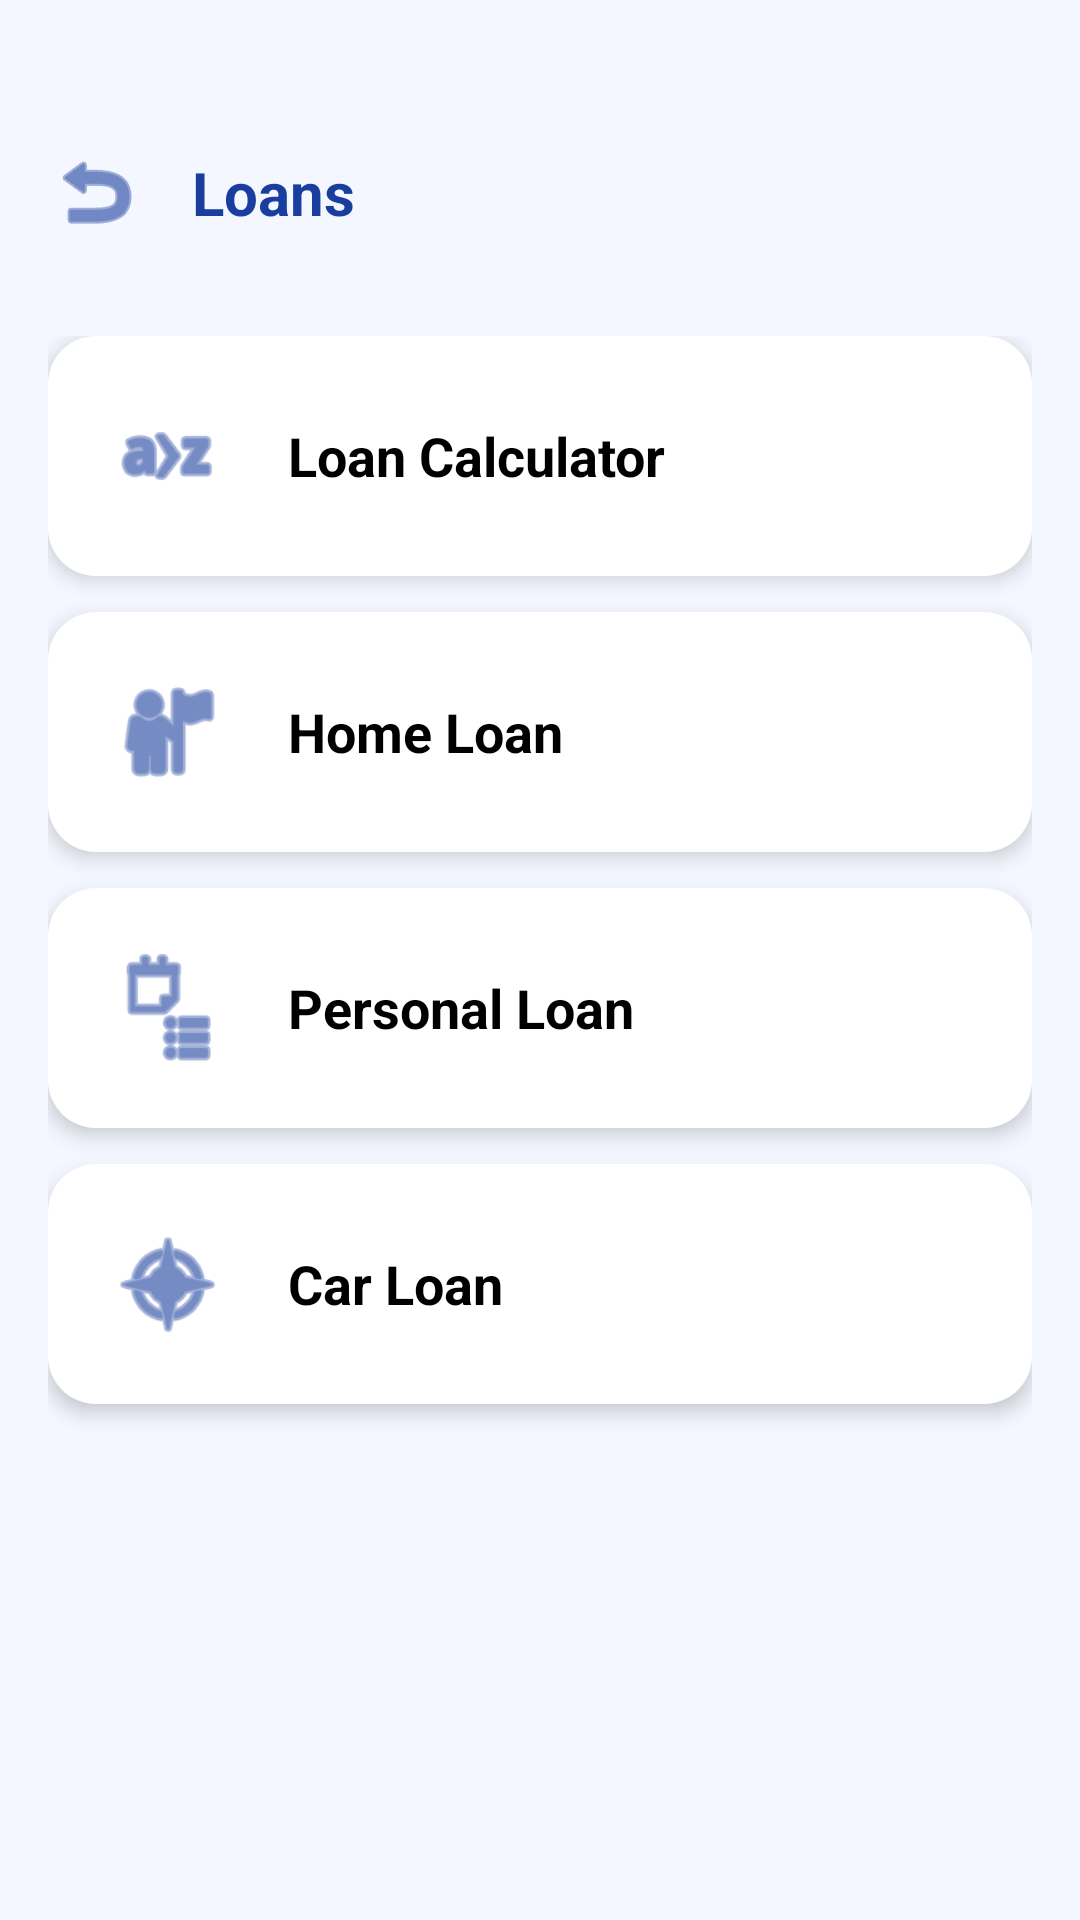

Screen size 1080 x 1920. Icon name, then its center in pixels as [x,y]:
agenda: [168,1007]
compass: [167,1284]
myplaces: [169,732]
revert: [97,192]
sort alphabetically: [166,456]
